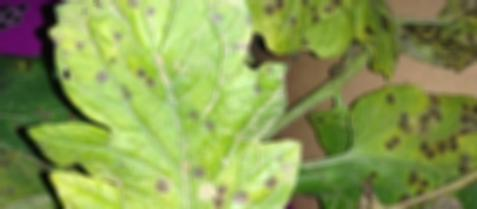Tomato Septoria leaf spot: (25, 0, 303, 209), (310, 81, 477, 209), (395, 0, 477, 88)
